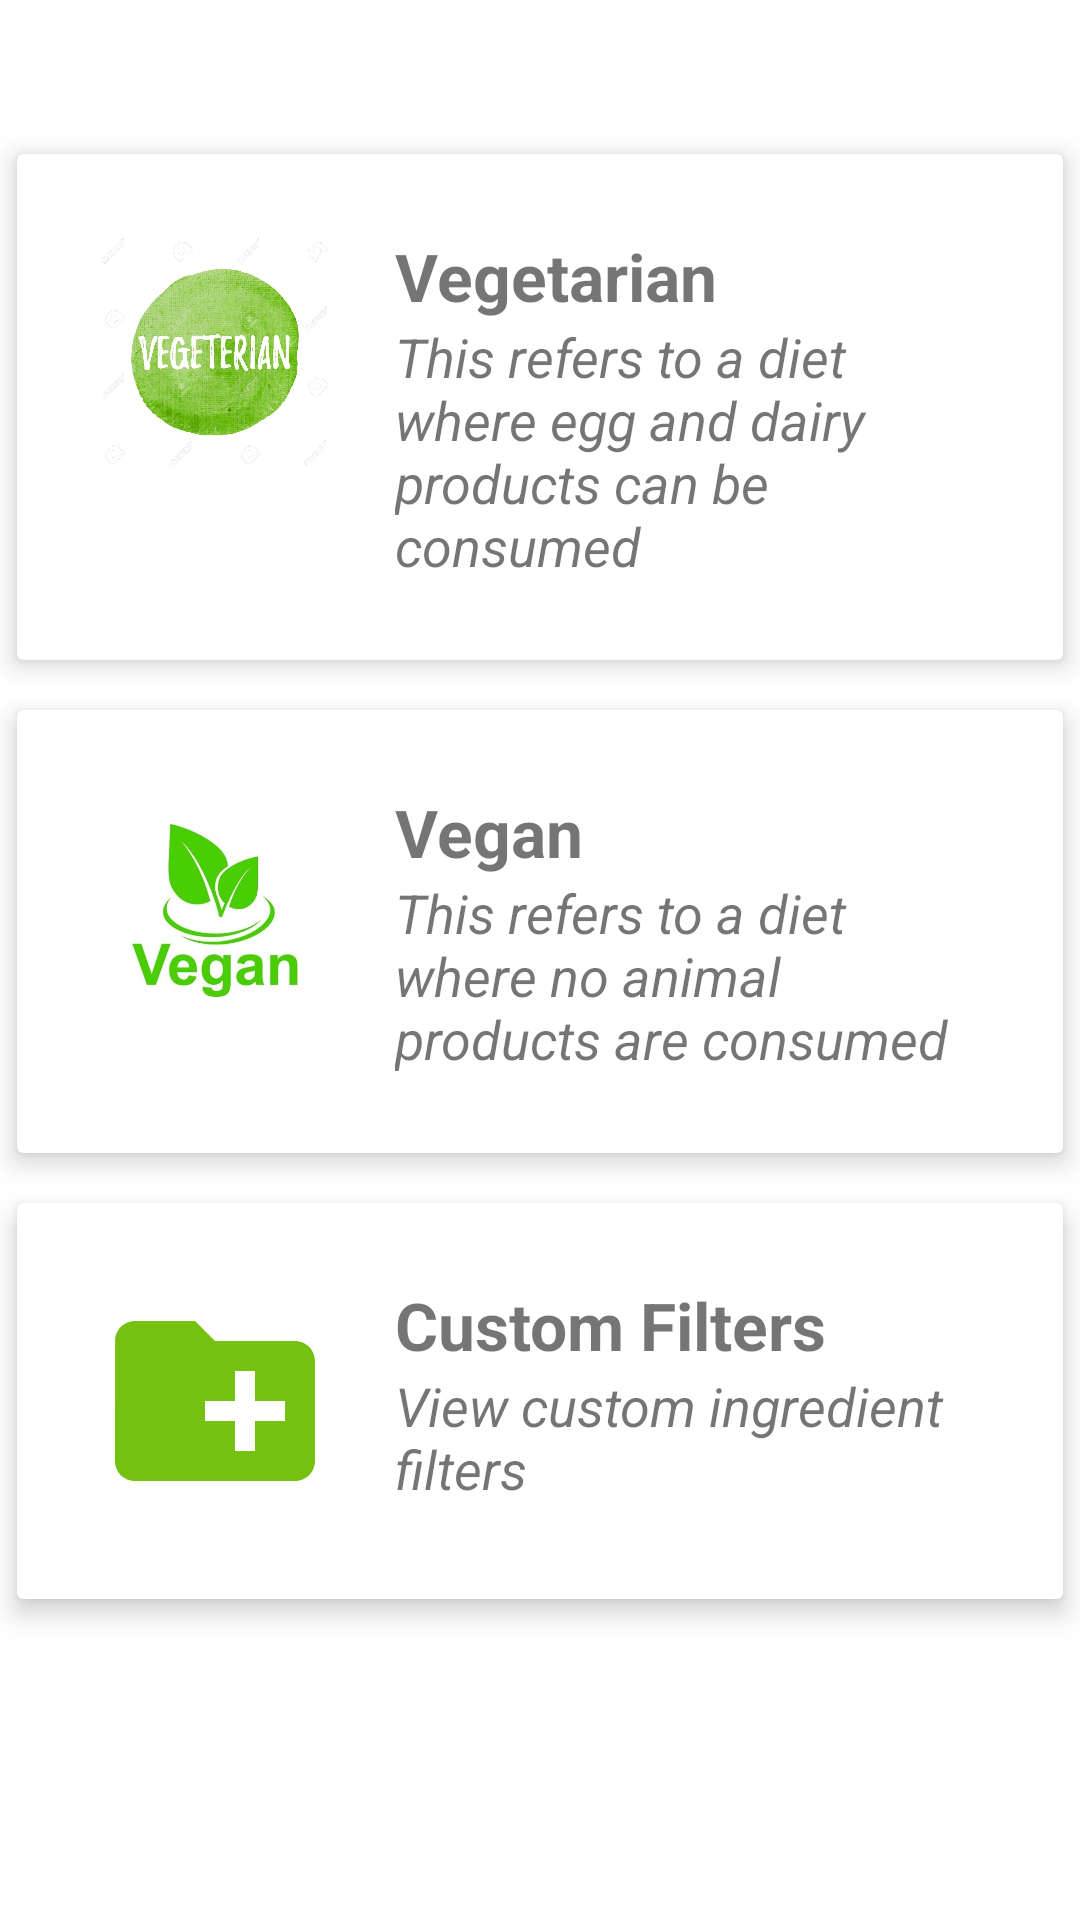

Point at icon controls on the screen. Image size 1080 x 1920, points as [x,y].
create folder: [215,1401]
